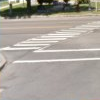crosswalk: (1, 20, 100, 50)
